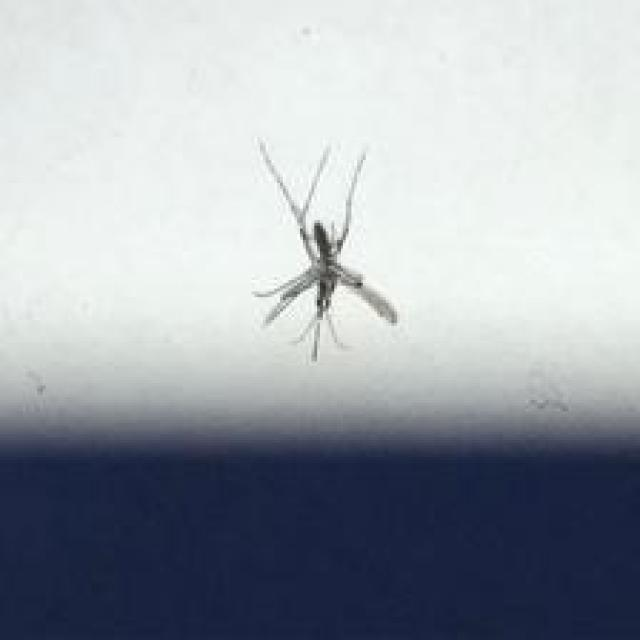Aedes albopictus: (250, 136, 399, 361)
